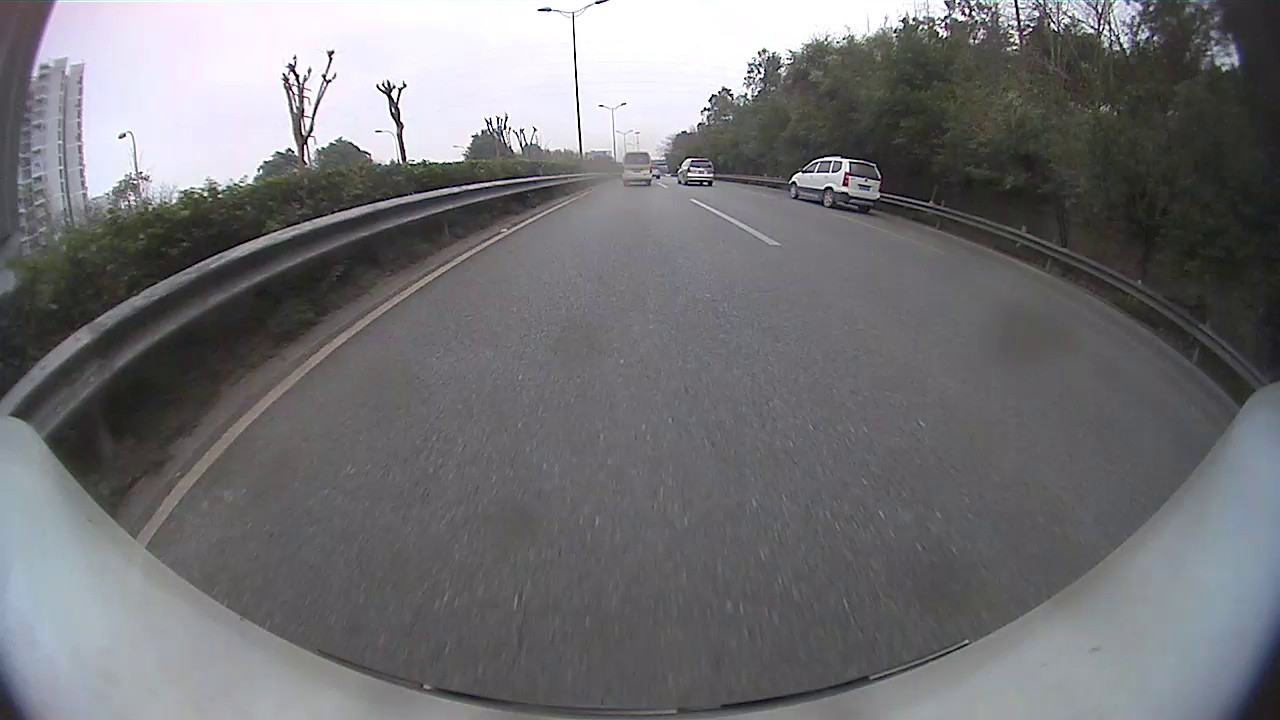car: (785, 153, 882, 214), (675, 155, 715, 186), (620, 151, 653, 186)
front: (789, 184, 798, 200)
rear: (821, 189, 835, 209)
